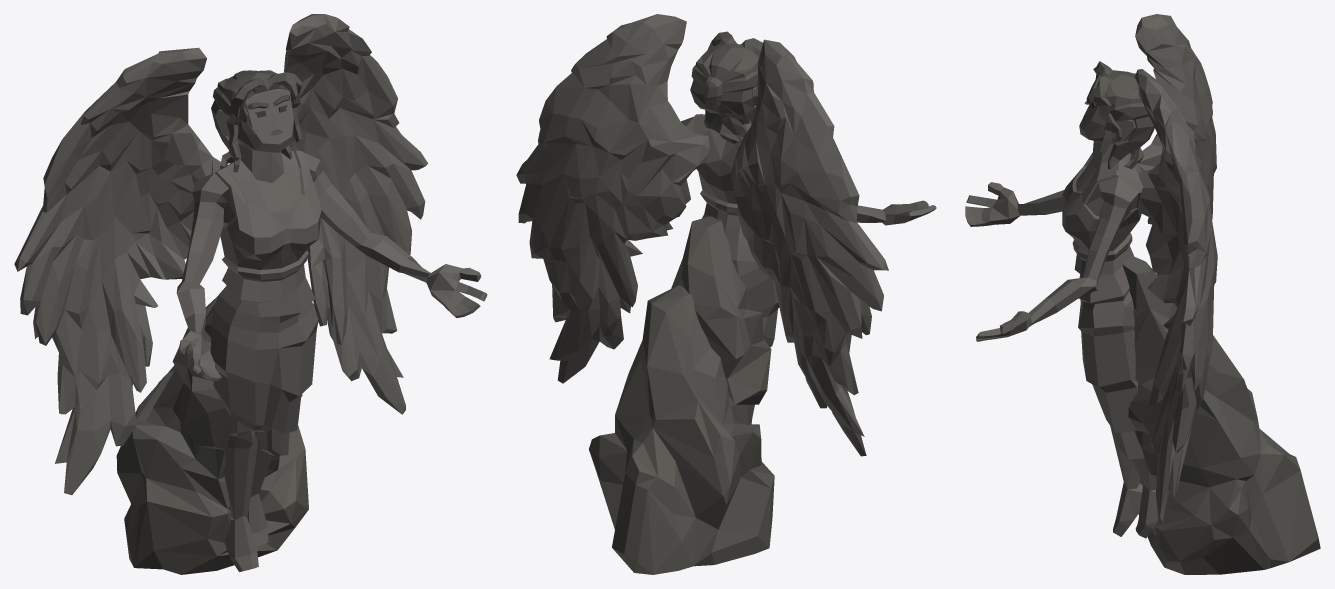
The model's file is prop_statue_angel.gltf.
The picture shows the model from 3 angles, left to right: view 1: azimuth 30°, elevation 25°; view 2: azimuth 150°, elevation 25°; view 3: azimuth 270°, elevation 25°; orthographic projection. The views are drawn at different scales.
Visible parts, largest first — view 1: prop_statue_angel; view 2: prop_statue_angel; view 3: prop_statue_angel.
Boxes of the visible parts, x1,y1,x2,y2 form: prop_statue_angel: (14,14,487,574); prop_statue_angel: (516,14,936,574); prop_statue_angel: (965,14,1320,574).
Size of the model in its own units: 2.5 by 3.11 by 1.99.
Materials: 1 (1 with a texture image).
